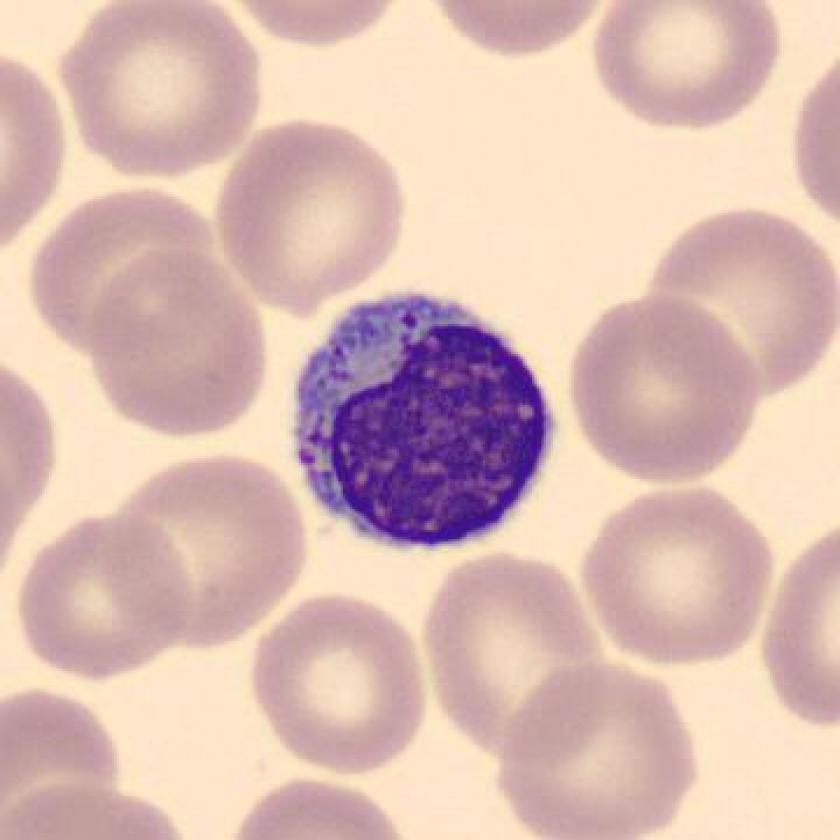lymphocyte: (274, 274, 570, 573)
